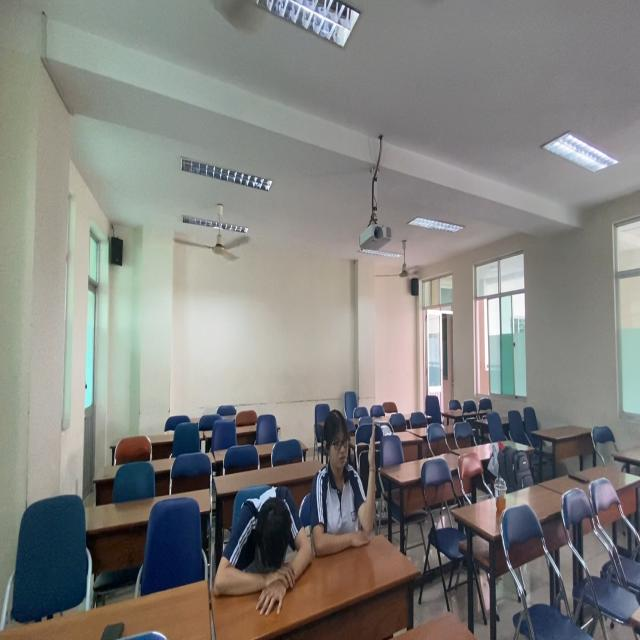raise_hand: (319, 407, 380, 554)
sleep: (212, 492, 313, 606)
